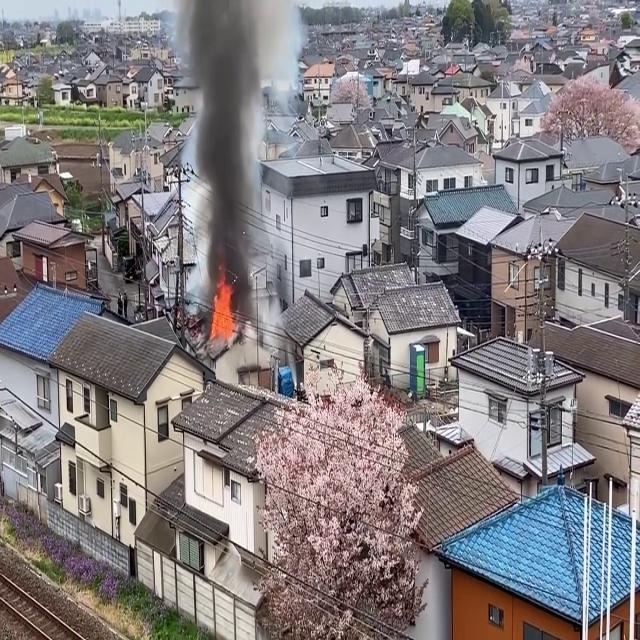Fire: (208, 271, 238, 347)
Smoke: (182, 0, 270, 310)
